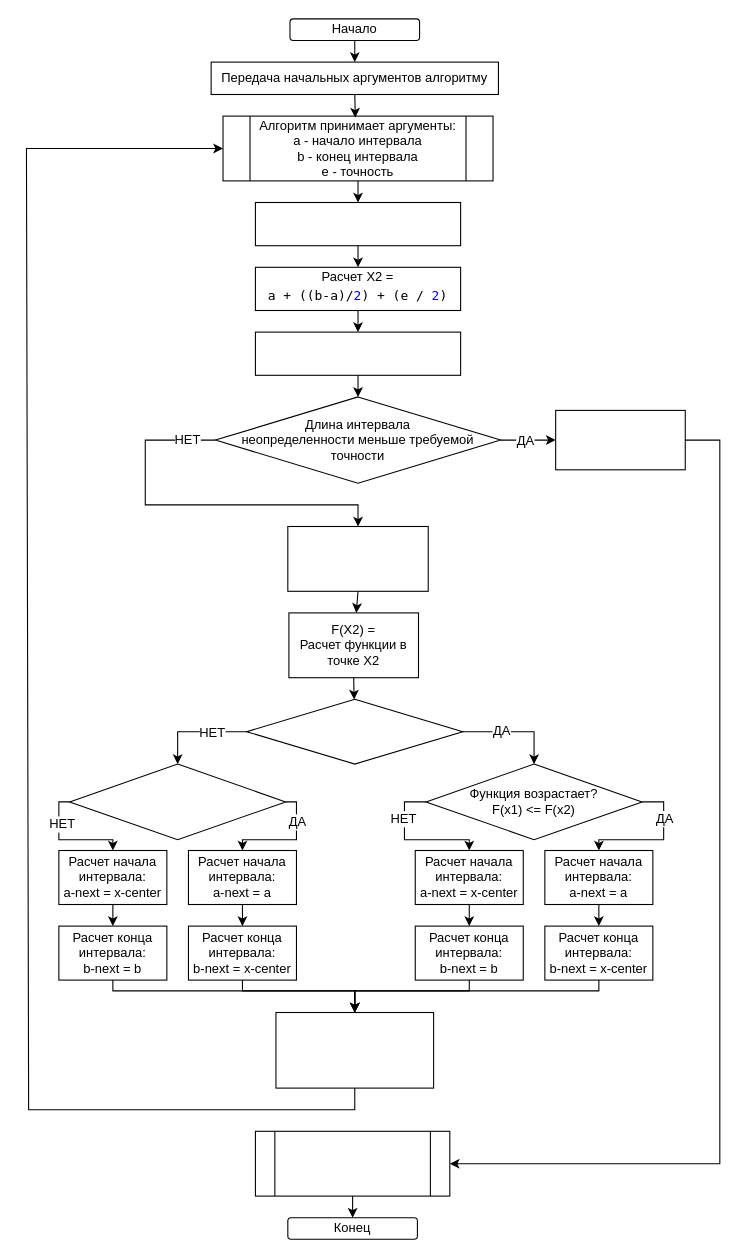
Some shapes in this 747 by 1258 pixel diagram are drawn without their labels. Each missing label, with the box of its shape:
F(X-center) = Расчет функции в точке X-center: (555, 409, 685, 470)
F(X1) = Расчет функции в точке X1: (287, 525, 428, 591)
Возвращение результата алгоритма: return F(x-center): (254, 1130, 450, 1196)
Ищем минимум функции?: (246, 698, 463, 764)
Передача значений нового интервала [a-next, b-next] в следующую итерацию: (275, 1011, 434, 1088)
Расчет X-center = x1 + ((x2 - x1) / 2 ): (254, 331, 461, 375)
Расчет X1 = a + ((b-a)/ 2 ) - (e / 2 ): (254, 201, 461, 246)
Функция убывает? F(x1) > F(x2): (69, 763, 286, 840)
